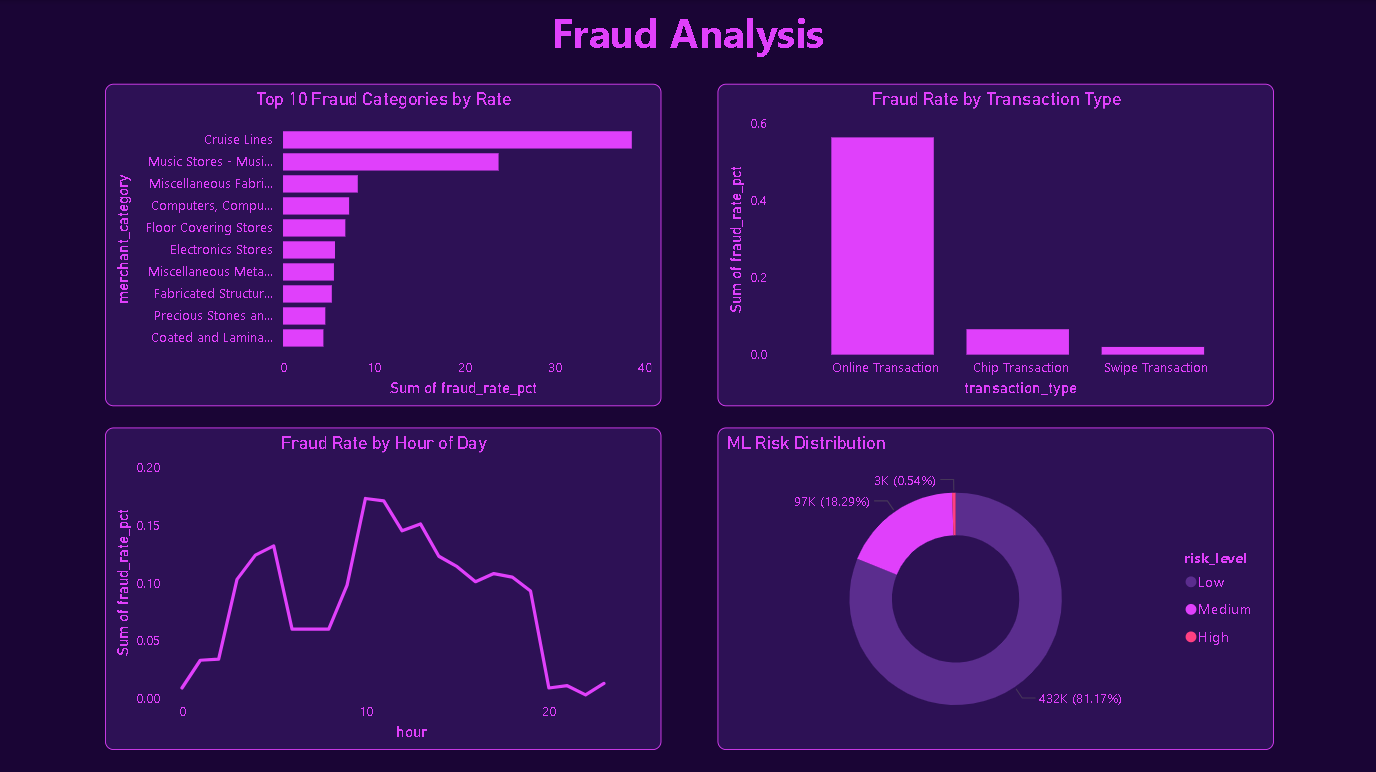

The dashboard page shown, as its layout file describes it:
{"tool":"powerbi","page":{"name":"Fraud Analysis","canvas":[1280,720],"ordinal":1},"visuals":[{"type":"clusteredBarChart","title":"Top 10 Fraud Categories by Rate","fields":{"Category":["Fraud by Category.merchant_category"],"Y":["Sum(Fraud by Category.fraud_rate_pct)"]},"box":[97.7,77.9,517.4,300],"z":0},{"type":"clusteredColumnChart","title":"Fraud Rate by Transaction Type","fields":{"Category":["Fraud by Txn Type.transaction_type"],"Y":["Sum(Fraud by Txn Type.fraud_rate_pct)"]},"box":[667.4,77.9,517.4,300],"z":1000},{"type":"lineChart","title":"Fraud Rate by Hour of Day","fields":{"Category":["Fraud by Hour.hour"],"Y":["Sum(Fraud by Hour.fraud_rate_pct)"]},"box":[97.7,397.7,517.4,300],"z":2000},{"type":"donutChart","title":"ML Risk Distribution","fields":{"Category":["ML Risk Summary.risk_level"],"Y":["Sum(ML Risk Summary.total_transactions)"]},"box":[667.4,397.7,517.4,300],"z":3000},{"type":"textbox","box":[341.7,0,596.5,62.8],"z":4000}]}

Visuals, with their boxes in screenshot pixels (x1, y1, x2, y2), scaled from the page's 1280x720 canvas onto the 1376x772 screenshot:
"Top 10 Fraud Categories by Rate" clusteredBarChart: (left=105, top=84, right=661, bottom=405)
"Fraud Rate by Transaction Type" clusteredColumnChart: (left=717, top=84, right=1274, bottom=405)
"Fraud Rate by Hour of Day" lineChart: (left=105, top=426, right=661, bottom=748)
"ML Risk Distribution" donutChart: (left=717, top=426, right=1274, bottom=748)
textbox: (left=367, top=0, right=1009, bottom=67)
